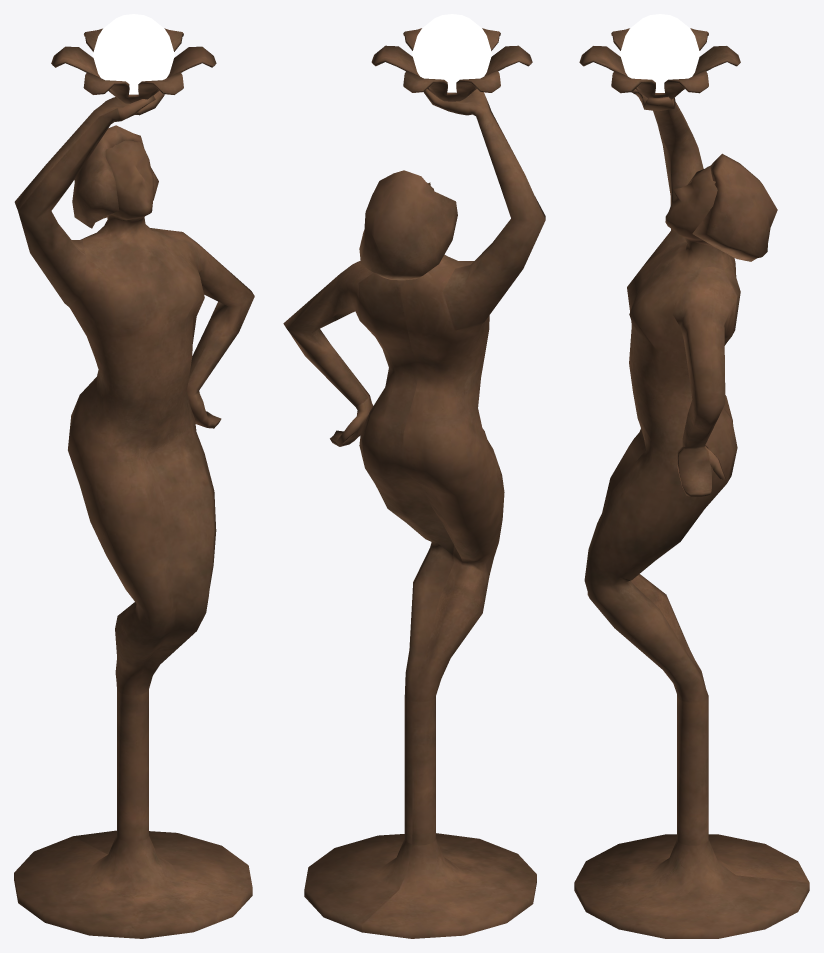
Rendered from floor_lamp.glb.
The picture shows the model from 3 angles, left to right: view 1: azimuth 30°, elevation 25°; view 2: azimuth 150°, elevation 25°; view 3: azimuth 270°, elevation 25°; orthographic projection. The views are drawn at different scales.
Visible parts, largest first — view 1: Lamp_Body_lopo, Lamp_Lightbulb_lopo, Lamp_Flower_lopo, Lamp_Hair_lopo; view 2: Lamp_Body_lopo, Lamp_Hair_lopo, Lamp_Lightbulb_lopo, Lamp_Flower_lopo; view 3: Lamp_Body_lopo, Lamp_Hair_lopo, Lamp_Lightbulb_lopo, Lamp_Flower_lopo.
Boxes of the visible parts, bbox=[...] form: Lamp_Body_lopo: bbox=[14, 91, 254, 938]; Lamp_Lightbulb_lopo: bbox=[92, 14, 174, 94]; Lamp_Flower_lopo: bbox=[51, 28, 216, 103]; Lamp_Hair_lopo: bbox=[72, 125, 158, 228]; Lamp_Body_lopo: bbox=[283, 89, 545, 938]; Lamp_Hair_lopo: bbox=[359, 170, 457, 280]; Lamp_Lightbulb_lopo: bbox=[412, 14, 491, 92]; Lamp_Flower_lopo: bbox=[371, 28, 532, 101]; Lamp_Body_lopo: bbox=[574, 89, 809, 938]; Lamp_Hair_lopo: bbox=[687, 153, 777, 261]; Lamp_Lightbulb_lopo: bbox=[620, 14, 700, 92]; Lamp_Flower_lopo: bbox=[579, 28, 740, 99].
Size of the model in its own units: 0.5936 by 2 by 0.4935.
1 material, 1 textured.
